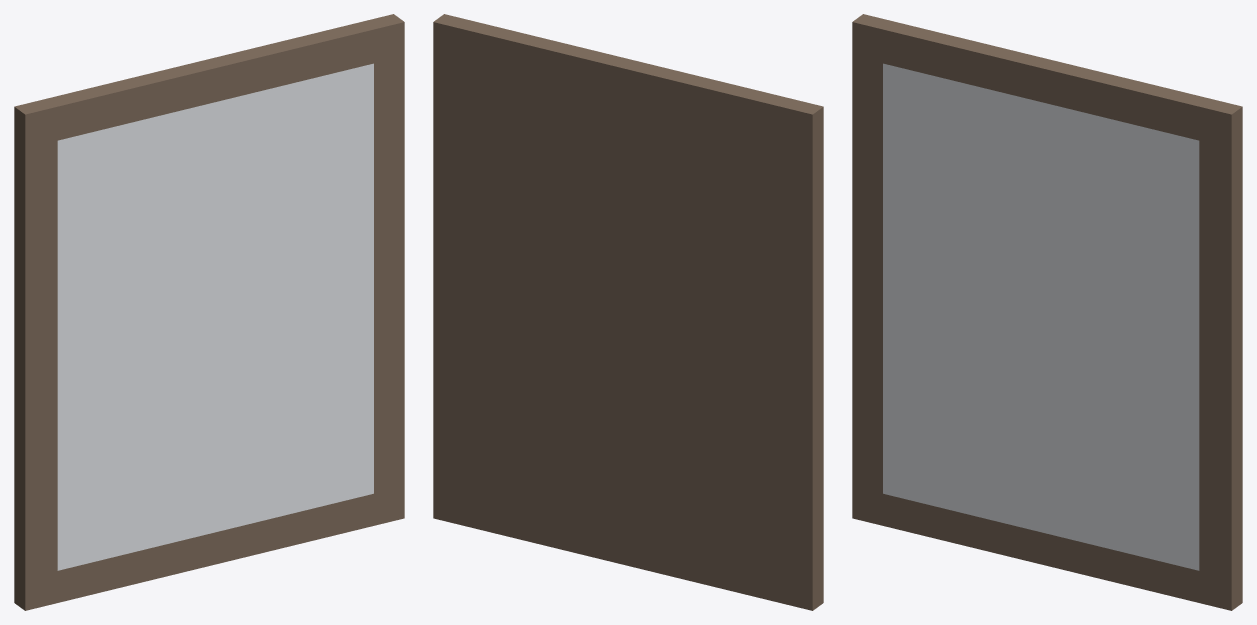
Rendered from photo_frame.glb.
3 views of the same model, side by side, from view 1: azimuth 30°, elevation 25°; view 2: azimuth 150°, elevation 25°; view 3: azimuth 330°, elevation 25° (orthographic).
Parts seen in each view (by area): view 1: photo_face, photo_01; view 2: photo_01; view 3: photo_face, photo_01.
Boxes of the visible parts, <box> form: photo_face: <box>57,63,373,570</box>; photo_01: <box>14,14,404,610</box>; photo_01: <box>433,14,823,610</box>; photo_face: <box>883,63,1199,570</box>; photo_01: <box>852,14,1242,610</box>.
Bounding box in the file's own units: 1.2 × 1.5 × 0.065.
